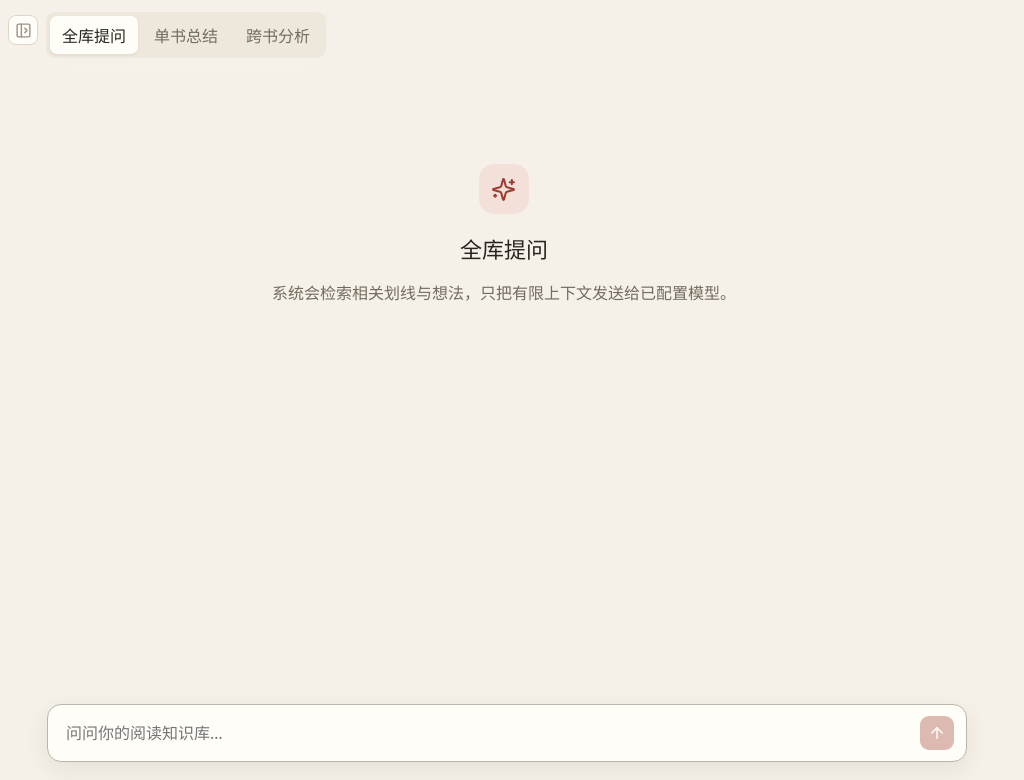
Test: AI 流式回答 › 重排降级提示展示为非阻断消息，正文照常显示
The image size is (1024, 780).
Type "降级提示" into the text box with placeholder "问问你的阅读知识库…" at (486, 734), box [64, 718, 908, 750]
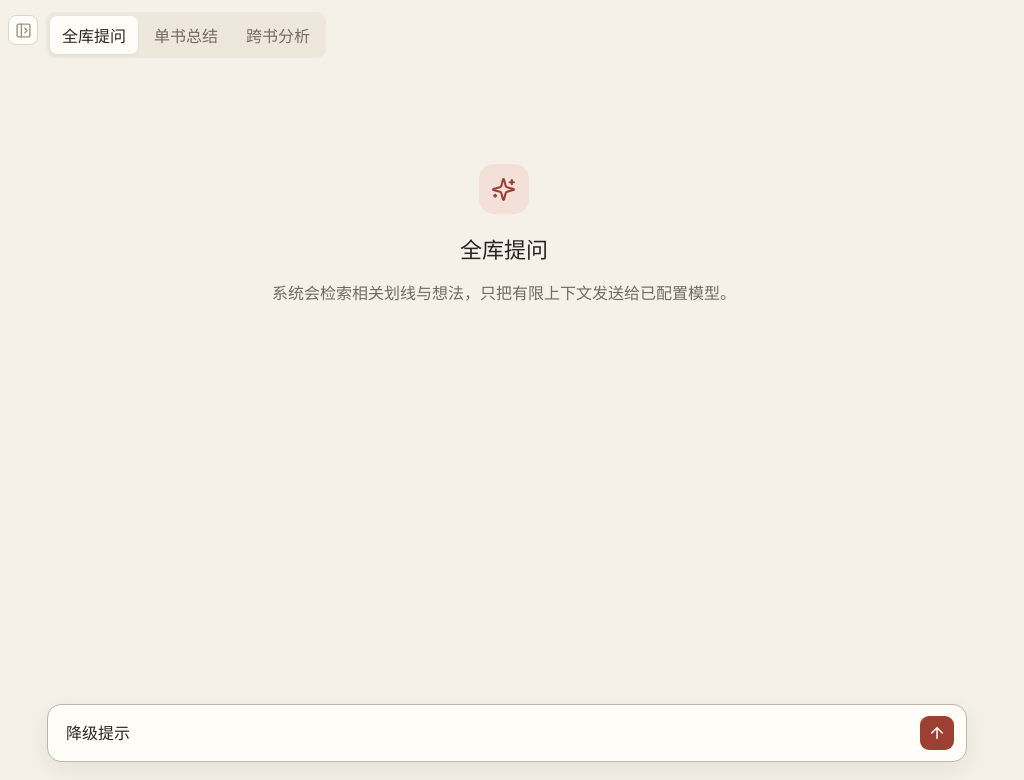
Click the button named "发送" at (937, 733), box [920, 716, 954, 750]
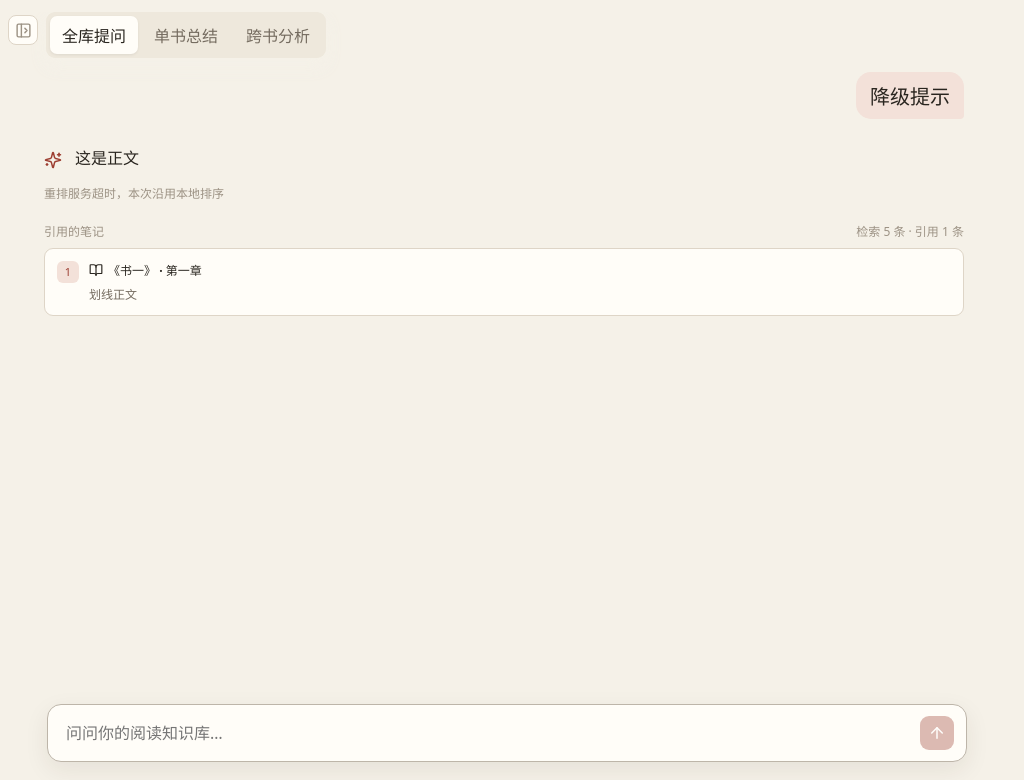
Expected: the text "重排服务超时，本次沿用本地排序" is shown, [44, 185, 224, 202]
Expected: the text "这是正文" is shown, [75, 147, 139, 169]
